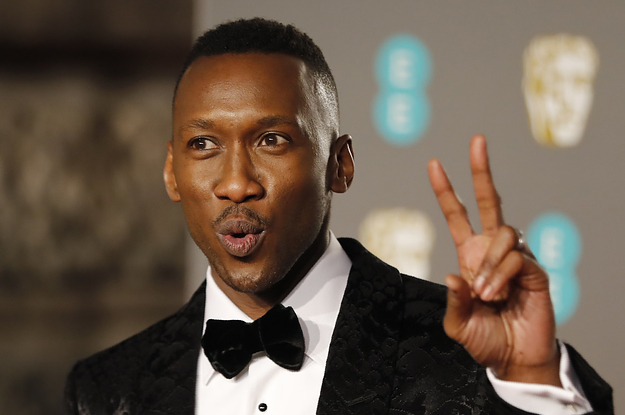bare: (176, 167, 323, 289)
